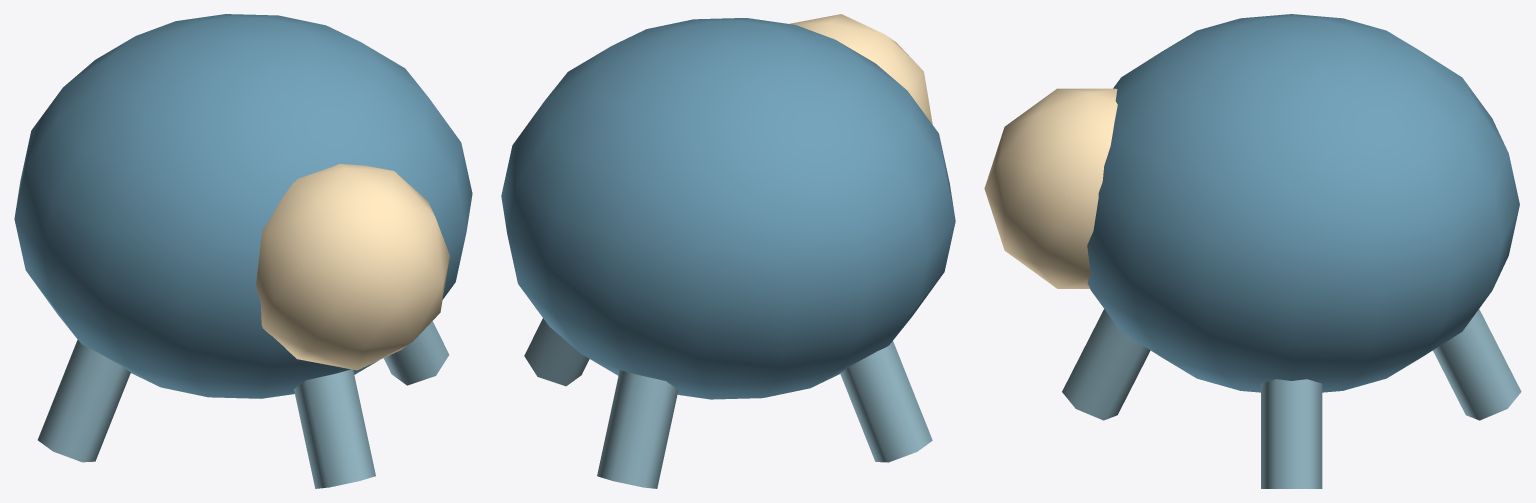
Rendered from jelly_core.fbx.
3 views of the same model, side by side, from view 1: azimuth 30°, elevation 25°; view 2: azimuth 150°, elevation 25°; view 3: azimuth 270°, elevation 25° (orthographic).
Visible parts, largest first — view 1: jelly_core; view 2: jelly_core; view 3: jelly_core.
Boxes of the visible parts, <box> form: jelly_core: <box>14,14,472,488</box>; jelly_core: <box>501,14,955,488</box>; jelly_core: <box>984,14,1521,488</box>.
Bounding box in the file's own units: 0.52 × 0.4727 × 0.6118.
